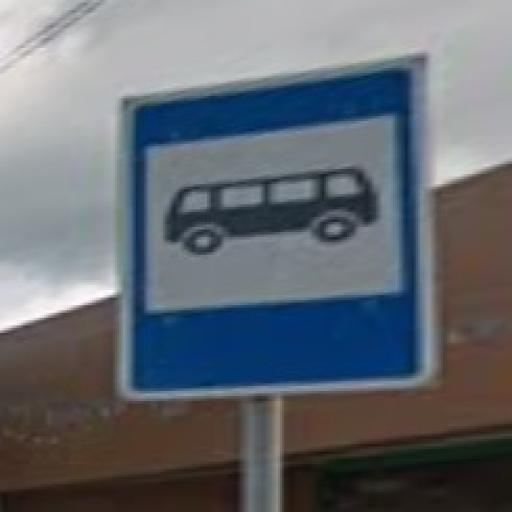traffic_sign: (122, 54, 440, 405)
